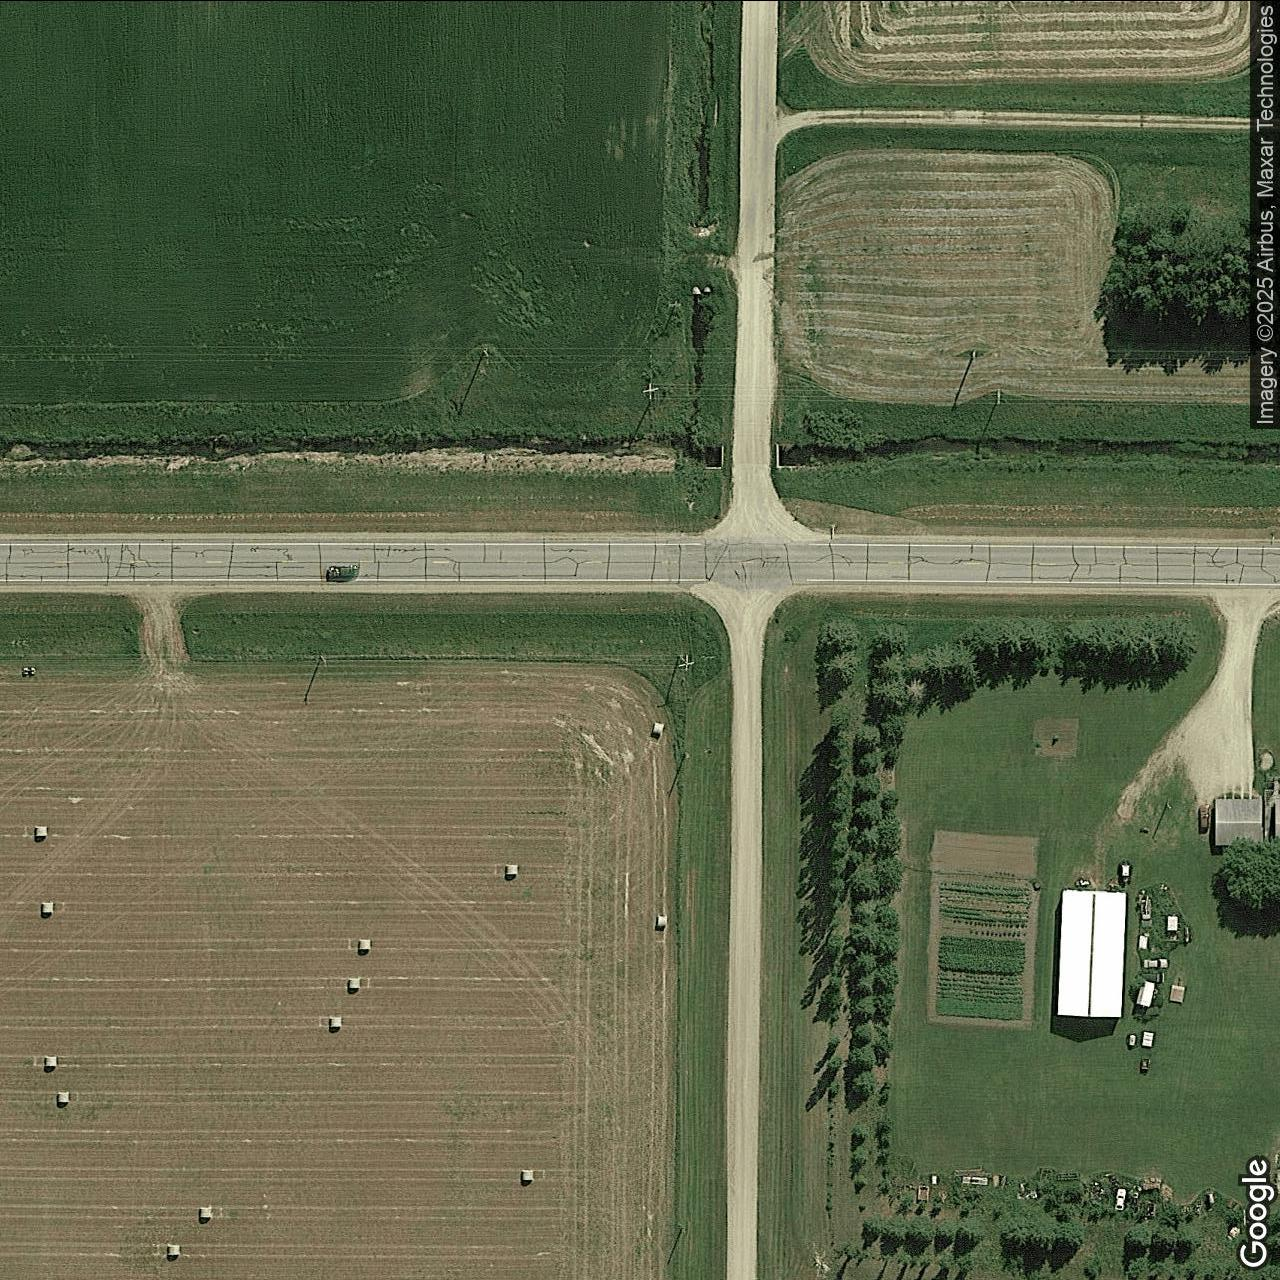House: (1217, 792, 1279, 845)
Other: (1058, 888, 1128, 1016)
